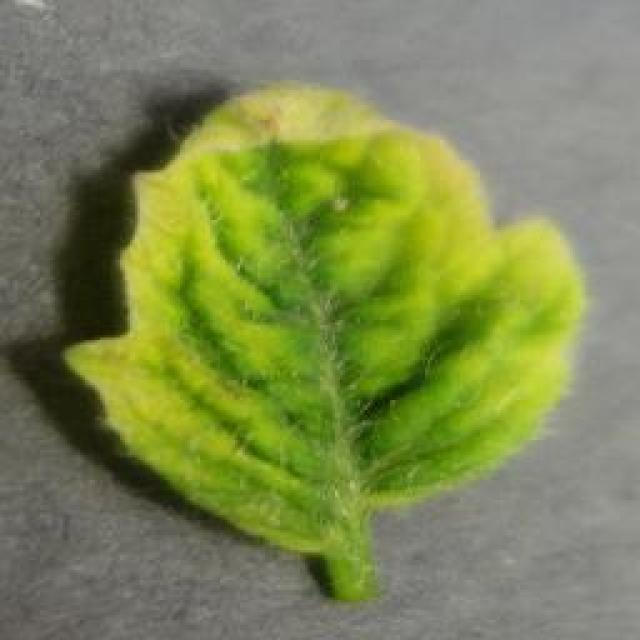Tom_Yellow_Leaf_Curl_Virus: (119, 94, 585, 542)
